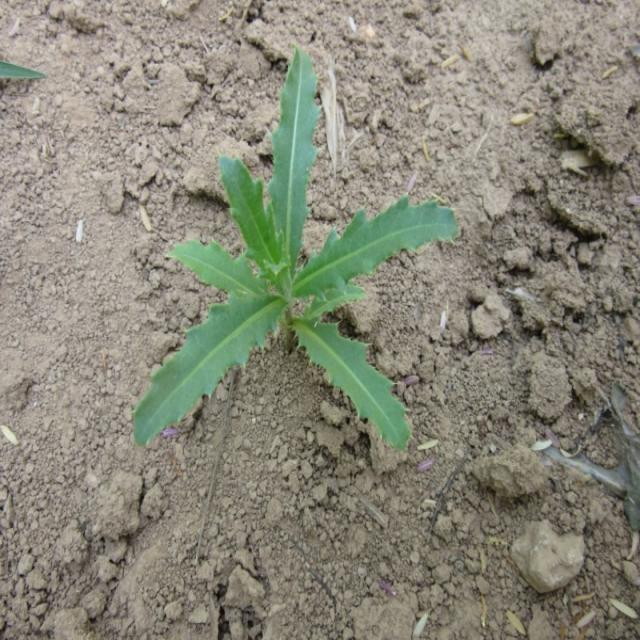field_thistle: (123, 58, 439, 470)
